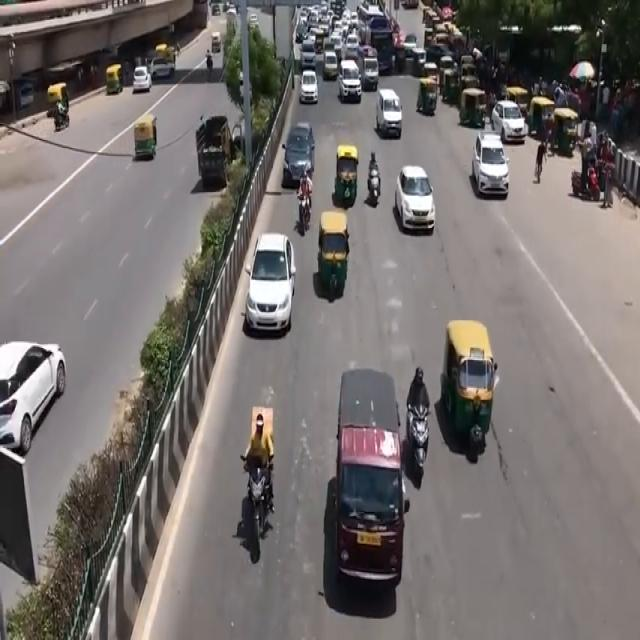MOTORCYCLE: (249, 460, 276, 568), (410, 408, 430, 486), (297, 196, 312, 238), (367, 168, 379, 208)
TRUCK: (340, 370, 412, 603)
